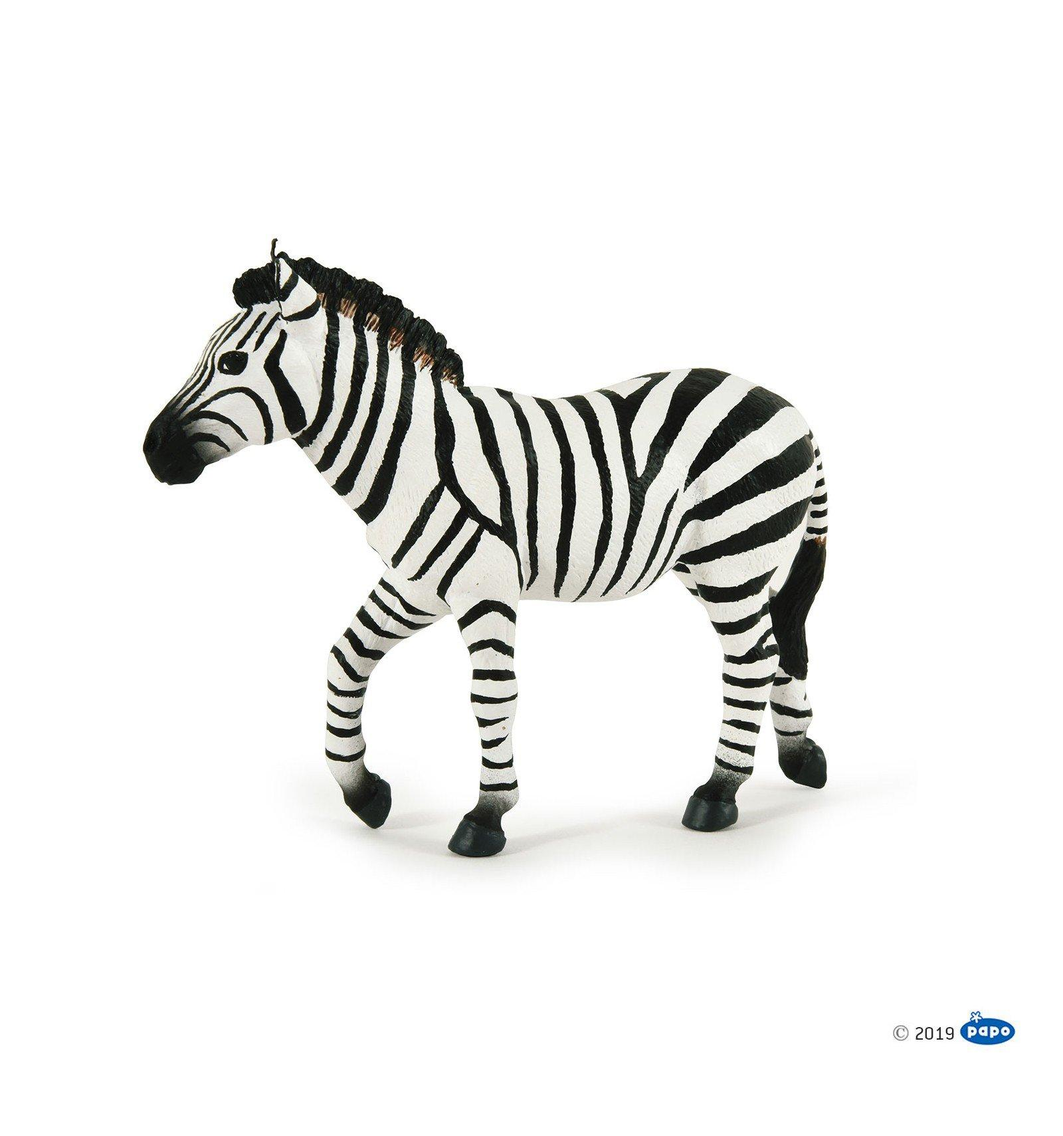Zebra: (144, 248, 828, 856)
